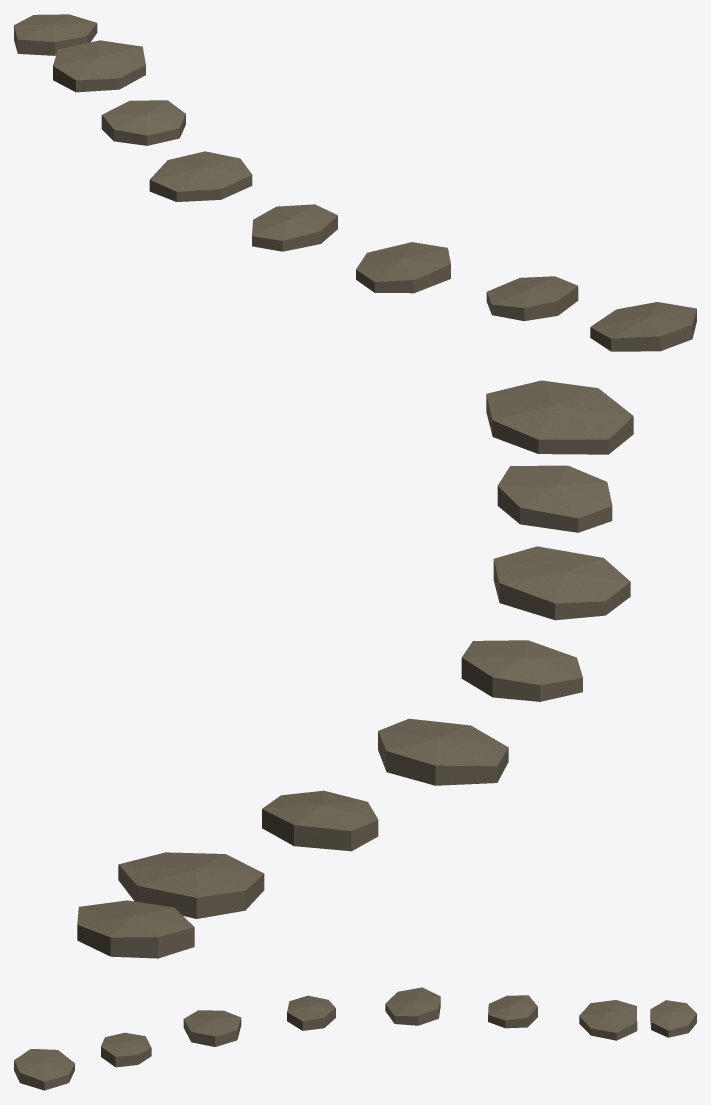
File: path-stones.glb
3 renders of one model, top to bottom at view 1: azimuth 30°, elevation 25°; view 2: azimuth 150°, elevation 25°; view 3: azimuth 270°, elevation 25°, orthographic. The views are drawn at different scales.
Visible parts, largest first — view 1: path-stones; view 2: path-stones; view 3: path-stones.
Boxes of the visible parts, left/top/right/bottom form: path-stones: left=14, top=14, right=696, bottom=351; path-stones: left=77, top=380, right=633, bottom=958; path-stones: left=14, top=987, right=696, bottom=1090.
Bounding box in the file's own units: 2.07 × 0.115 × 6.28.
Materials: 1 (1 with a texture image).
